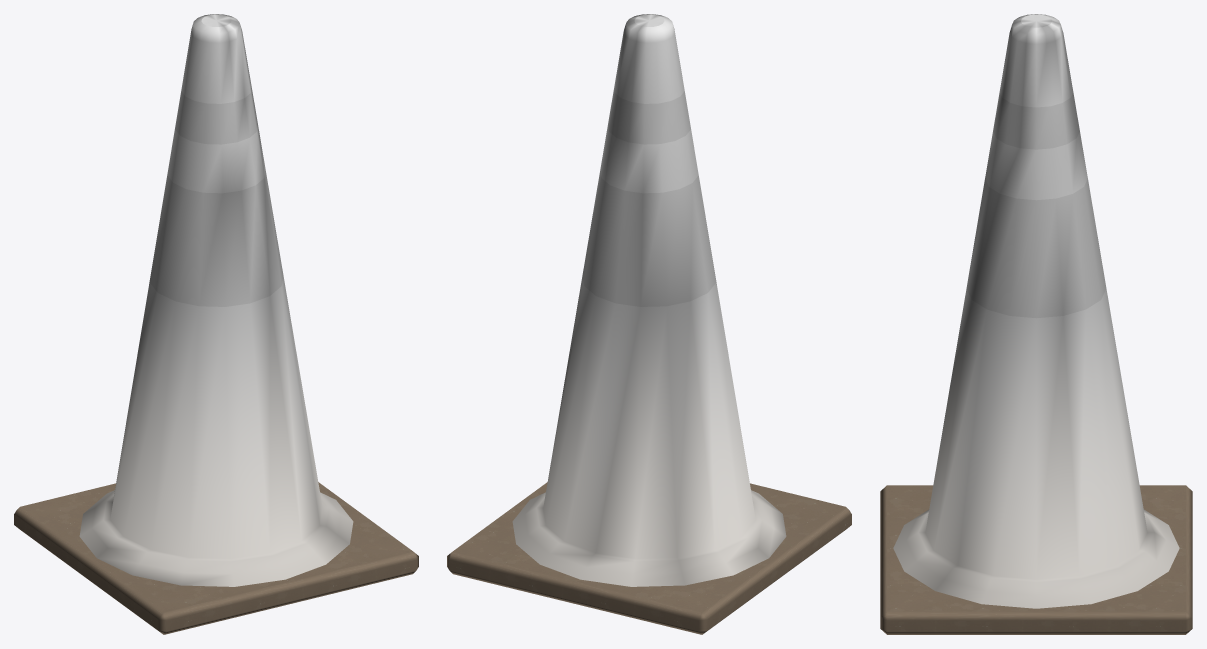
File: traffic_cone.glb
3 views of the same model, side by side, from view 1: azimuth 30°, elevation 25°; view 2: azimuth 150°, elevation 25°; view 3: azimuth 270°, elevation 25° (orthographic). The views are drawn at different scales.
Parts seen in each view (by area): view 1: traffic_cone; view 2: traffic_cone; view 3: traffic_cone.
Part boxes in pixels (bbox=[...]): traffic_cone: bbox=[14, 14, 418, 634]; traffic_cone: bbox=[447, 14, 851, 634]; traffic_cone: bbox=[880, 14, 1192, 634].
Bounding box in the file's own units: 0.36 × 0.7 × 0.36.
Materials: 3 (3 with a texture image).
